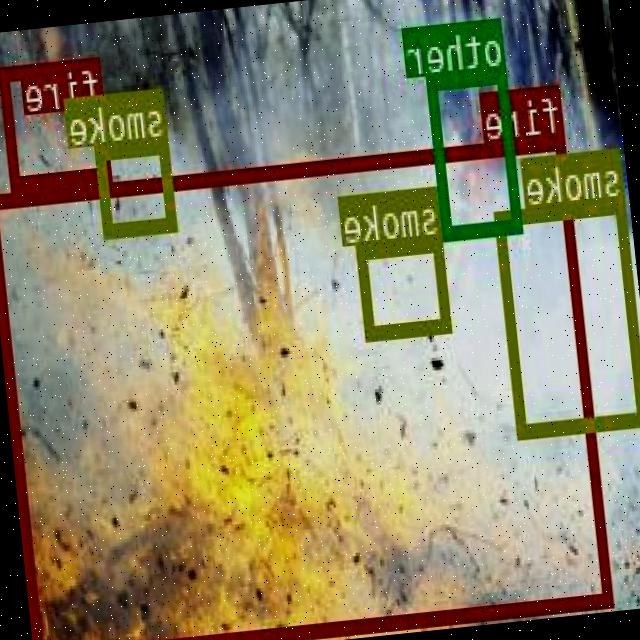fire: (0, 133, 614, 640), (0, 55, 113, 188)
smoke: (495, 195, 640, 434), (357, 234, 453, 338), (96, 136, 178, 234)
